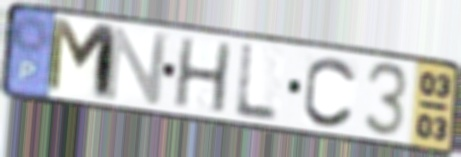3: (362, 59, 410, 140)
C: (301, 54, 360, 130)
H: (170, 36, 234, 117)
L: (232, 42, 281, 124)
M: (43, 15, 120, 105)
N: (102, 25, 172, 106)
